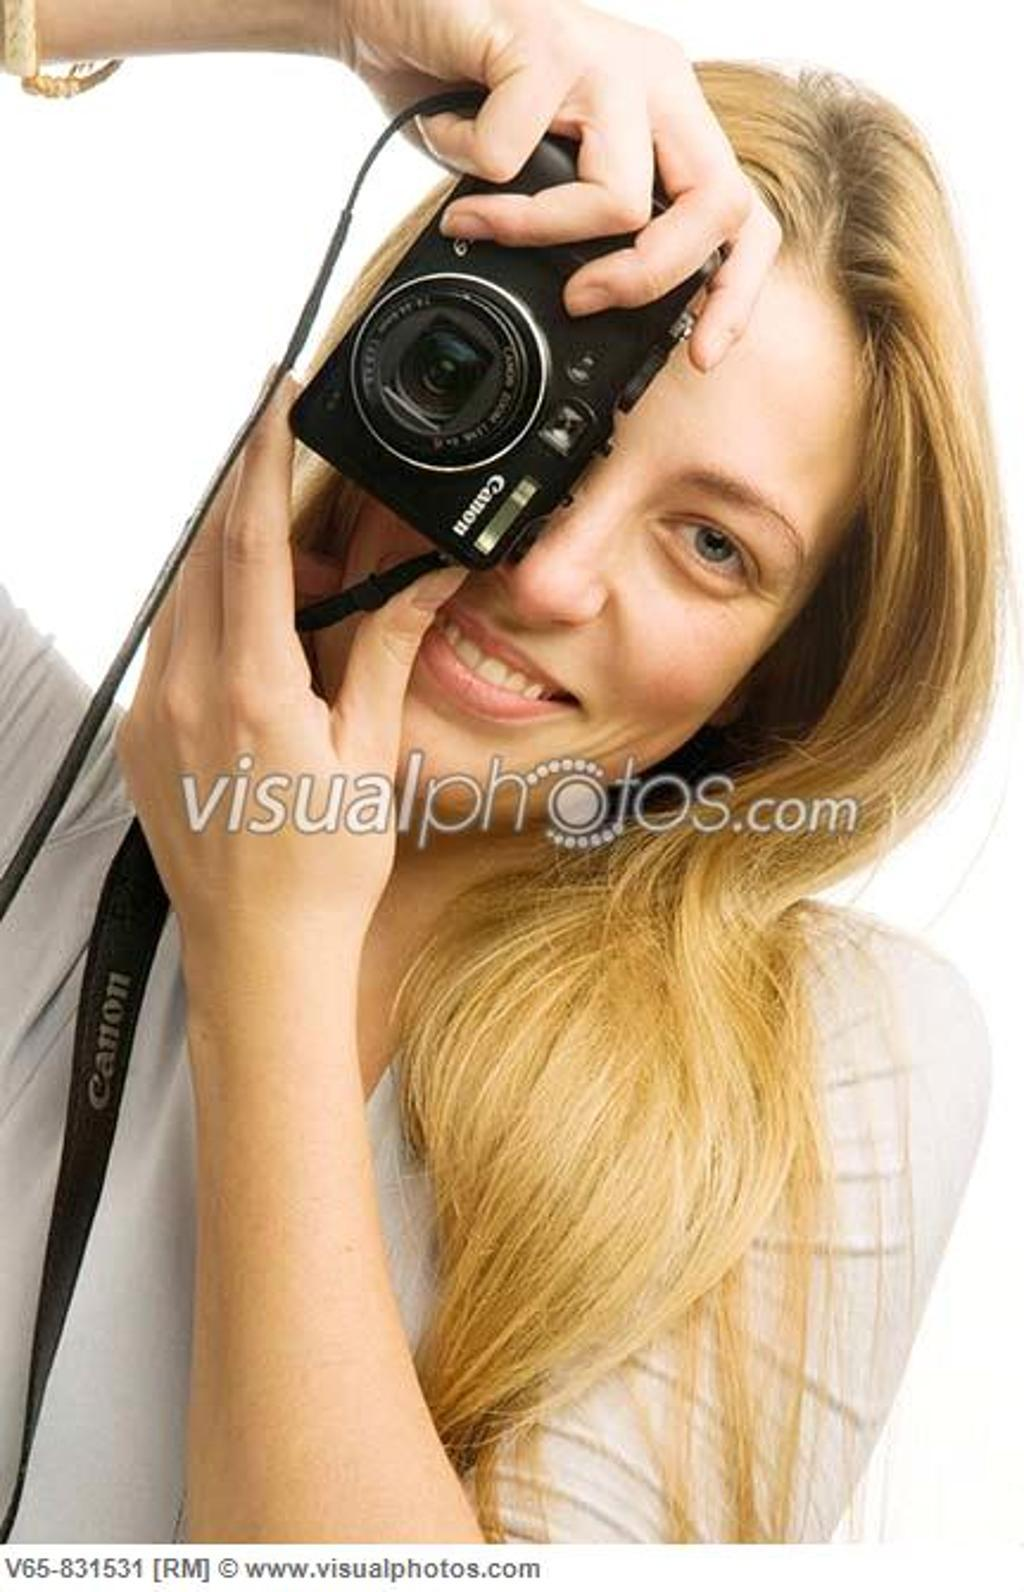face: (328, 241, 838, 807)
